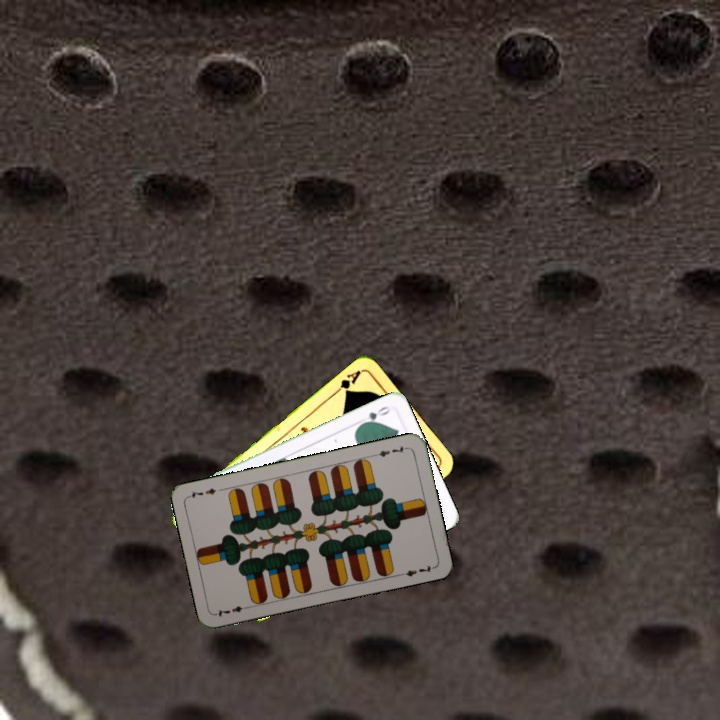E7: (370, 442, 410, 460), (212, 602, 252, 619)
GA: (330, 366, 364, 397)
GO: (356, 402, 393, 428)
